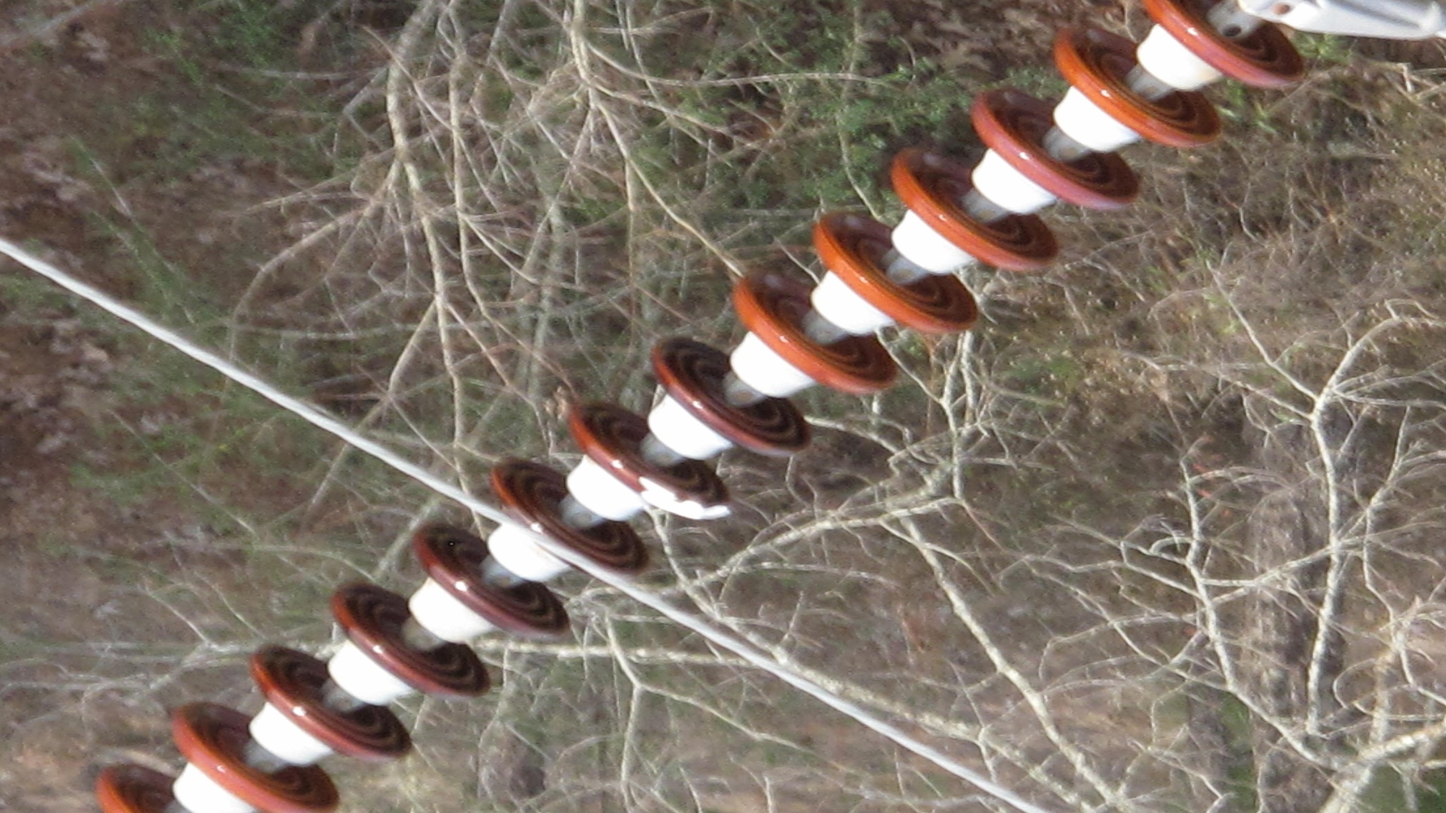insulator: (88, 1, 1310, 813)
insulator_breakage: (631, 471, 735, 522)
